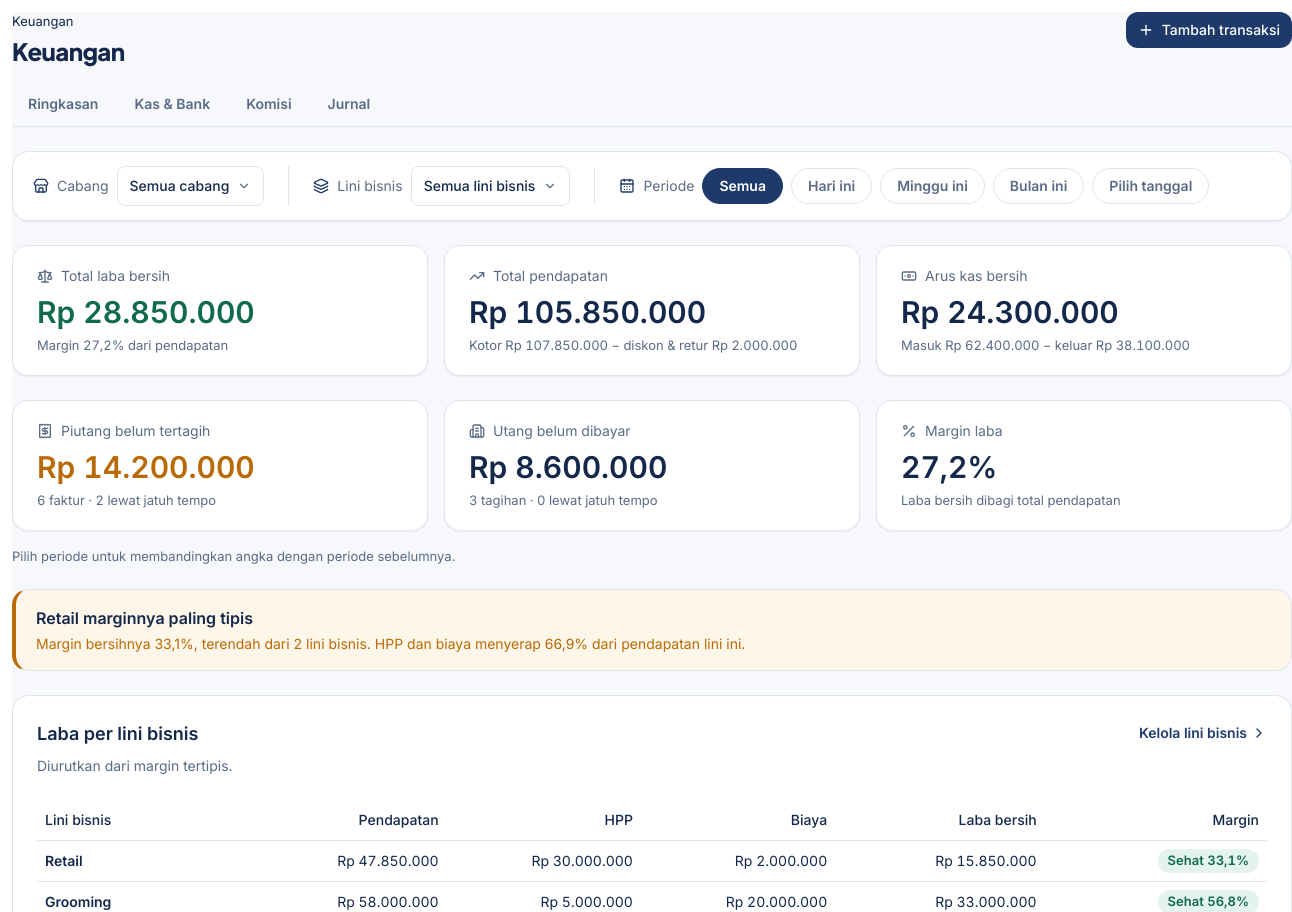
Scenario: FinanceDashboardScreen › compares each money card with the period before
Click the button "Bulan ini" at (1039, 186), box [993, 168, 1084, 204]
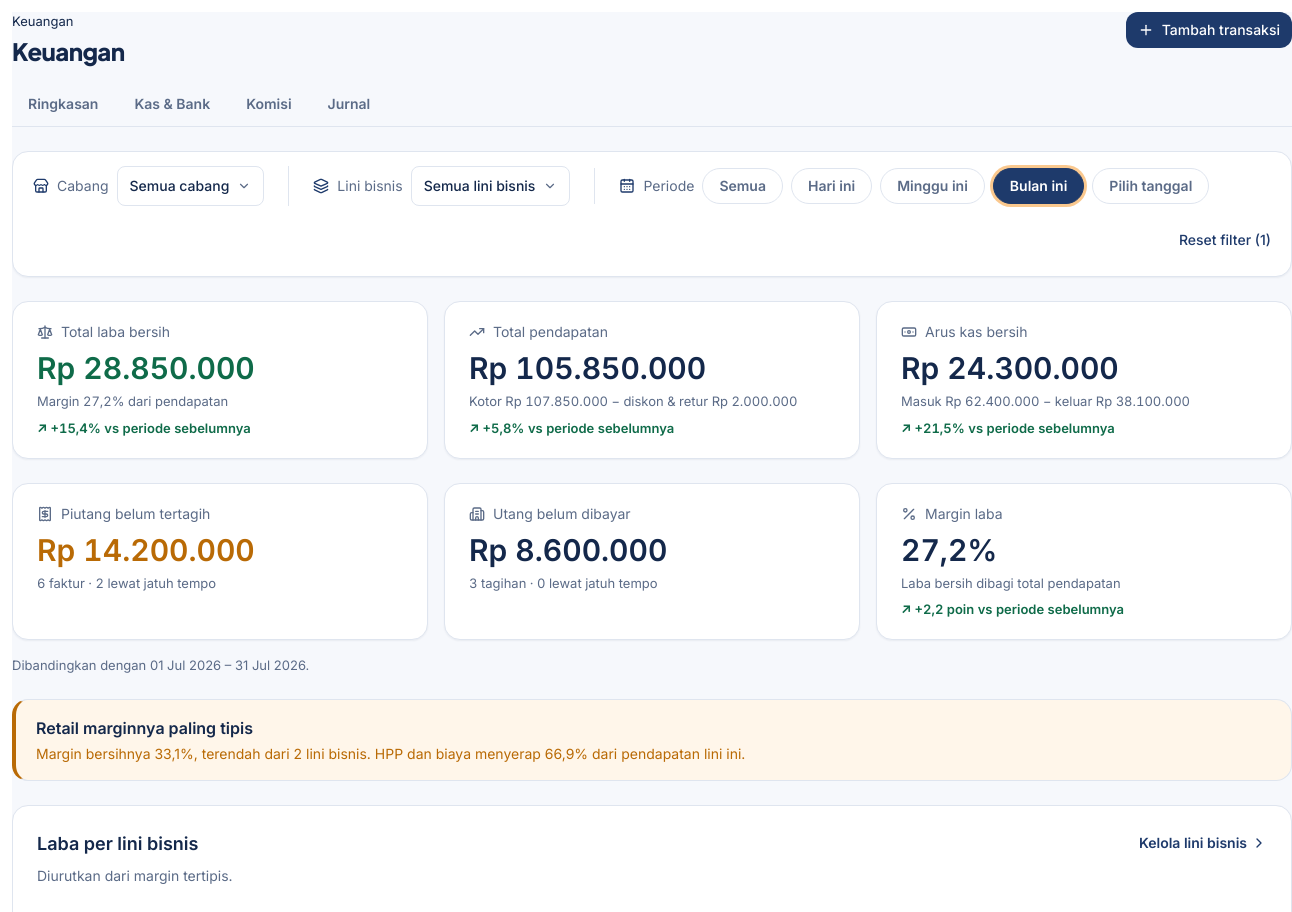
Expected: the text "Dibandingkan dengan 01 Jul 2026 – 31 Jul 2026." is shown, [12, 657, 309, 673]
Expected: the text "+15,4% vs periode sebelumnya" is shown, [37, 420, 251, 436]
Expected: the text "+5,8% vs periode sebelumnya" is shown, [469, 420, 674, 436]
